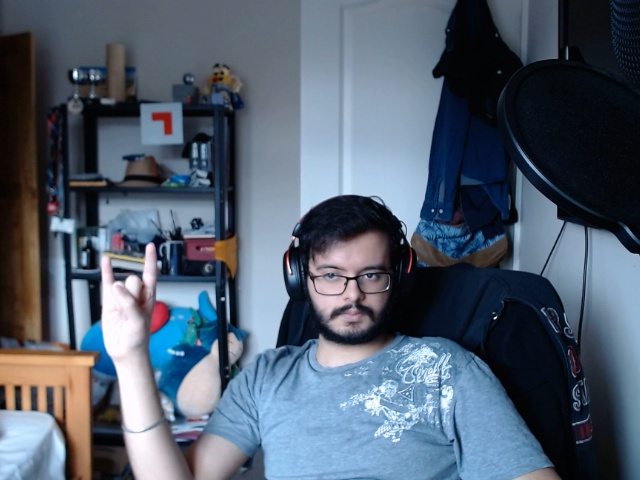Rock on: (83, 242, 166, 375)
